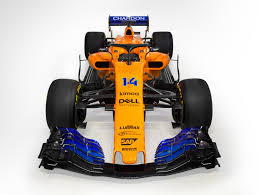FormulaOneCar: (38, 12, 223, 178)
